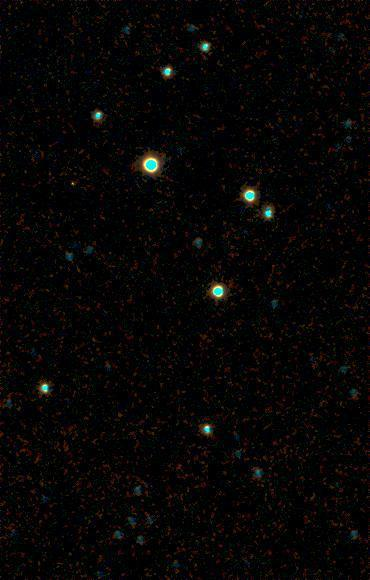star: (104, 401, 134, 431)
